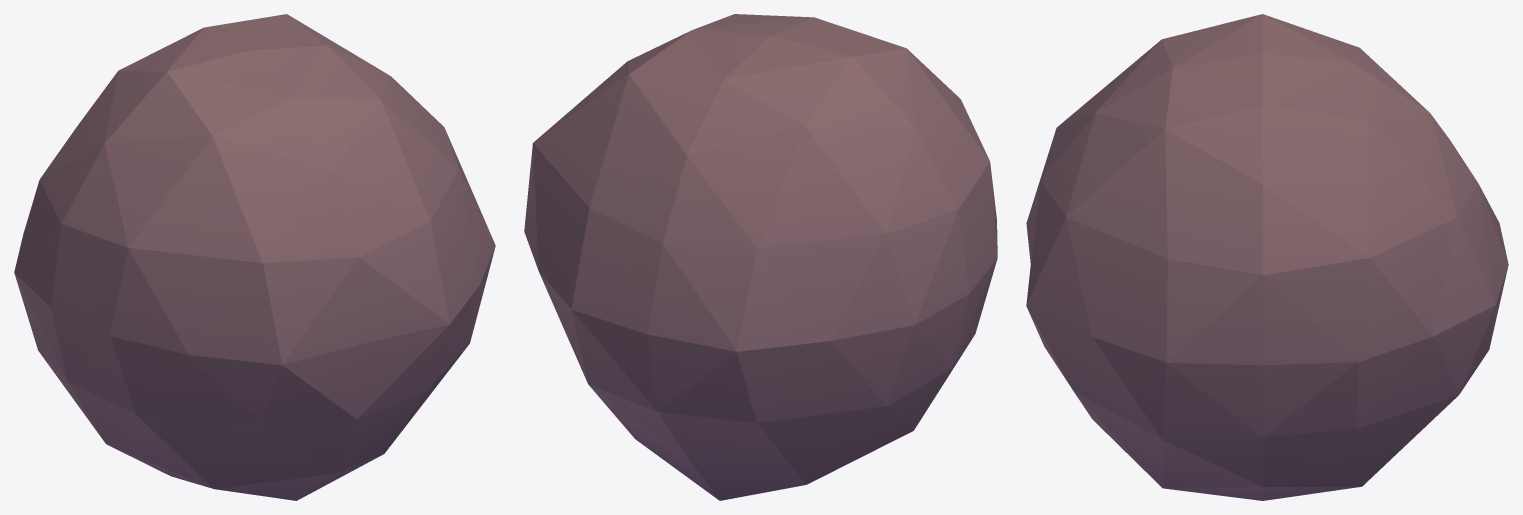
The model's file is cerbelera.glb.
3 renders of one model, left to right at view 1: azimuth 30°, elevation 25°; view 2: azimuth 150°, elevation 25°; view 3: azimuth 270°, elevation 25°, orthographic.
Visible parts, largest first — view 1: outer_cerbelera; view 2: outer_cerbelera; view 3: outer_cerbelera.
Boxes of the visible parts, x1,y1,x2,y2 form: outer_cerbelera: (14,14,495,500); outer_cerbelera: (524,14,997,500); outer_cerbelera: (1026,14,1508,500).
Size of the model in its own units: 5.11 by 5.2 by 5.25.
